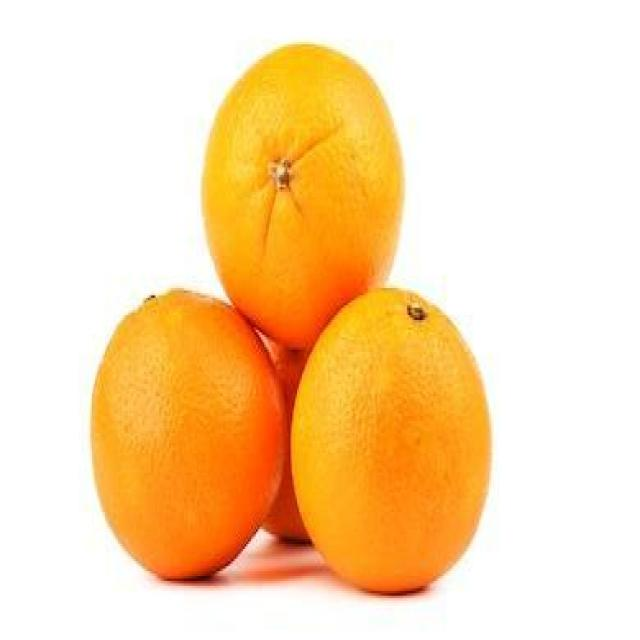Orange: (301, 287, 496, 601), (88, 283, 280, 577), (202, 36, 406, 284)
